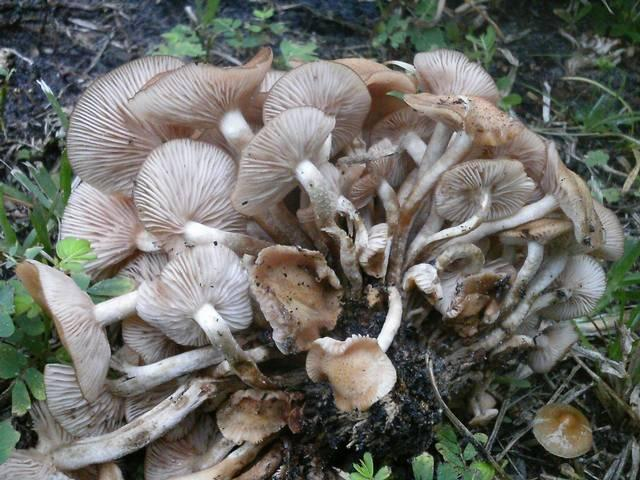edible_mushroom: (1, 45, 625, 479)
